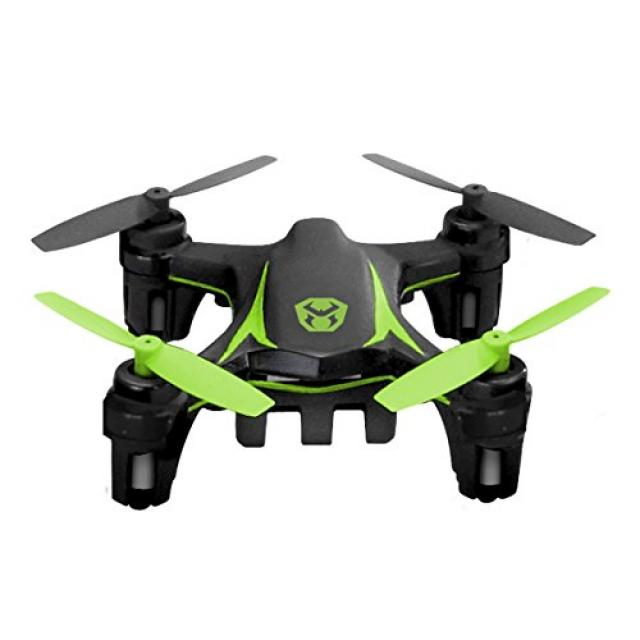drones: (25, 145, 613, 514)
